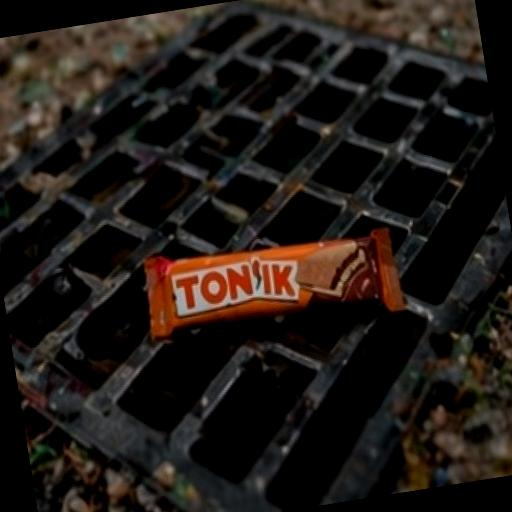tonik: (64, 116, 482, 472)
